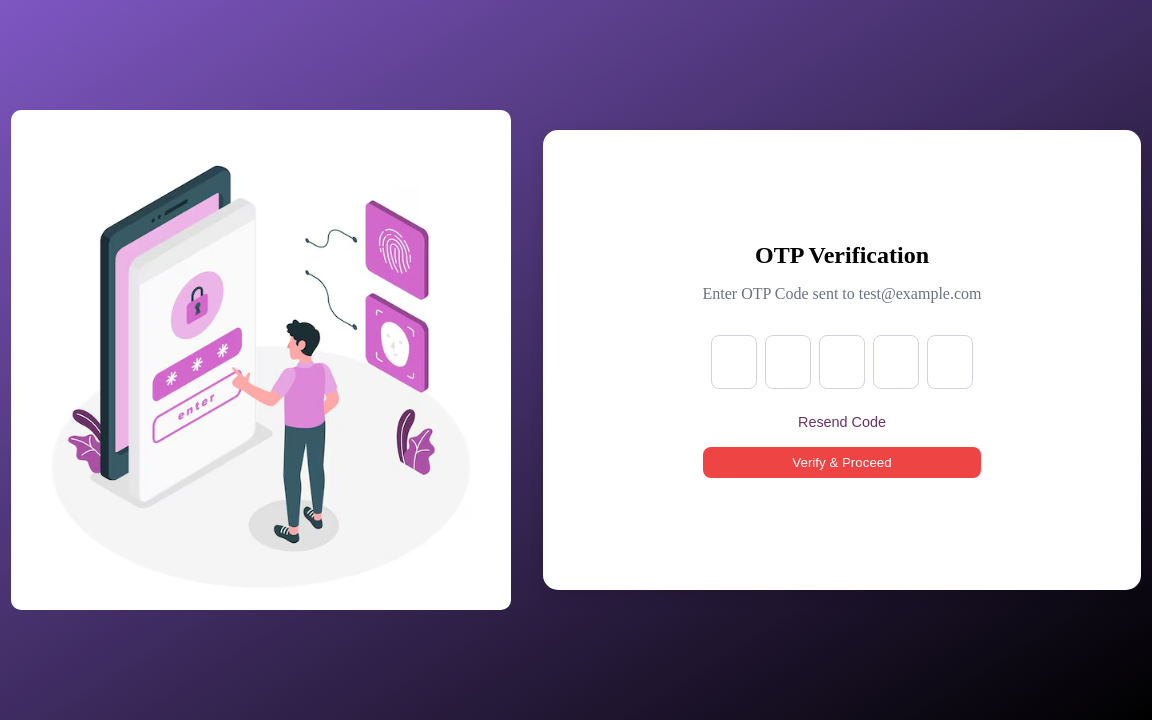
OTPVerification Component › displays error message on failed verification
# Fill in OTP inputs with digits "1", "2", "3", "4", "5"
In the 1st field: (734, 362) 711,335 -> 757,389, type "1"
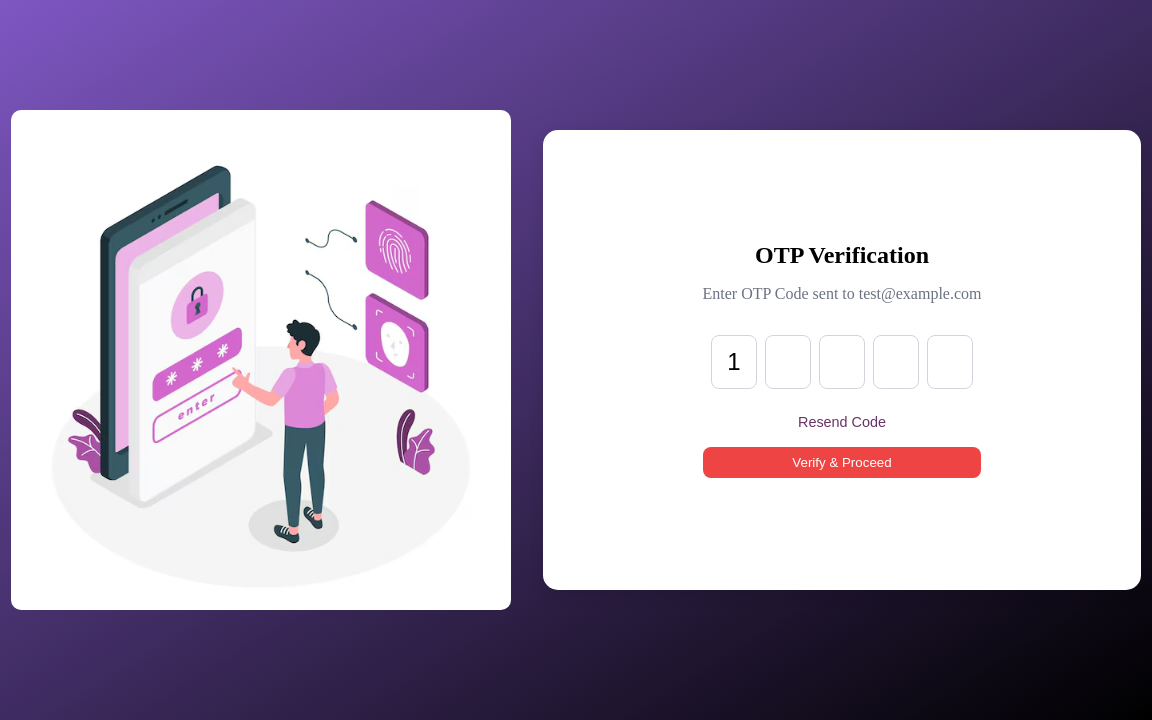
In the 2nd field: (788, 362) 765,335 -> 811,389, type "2"
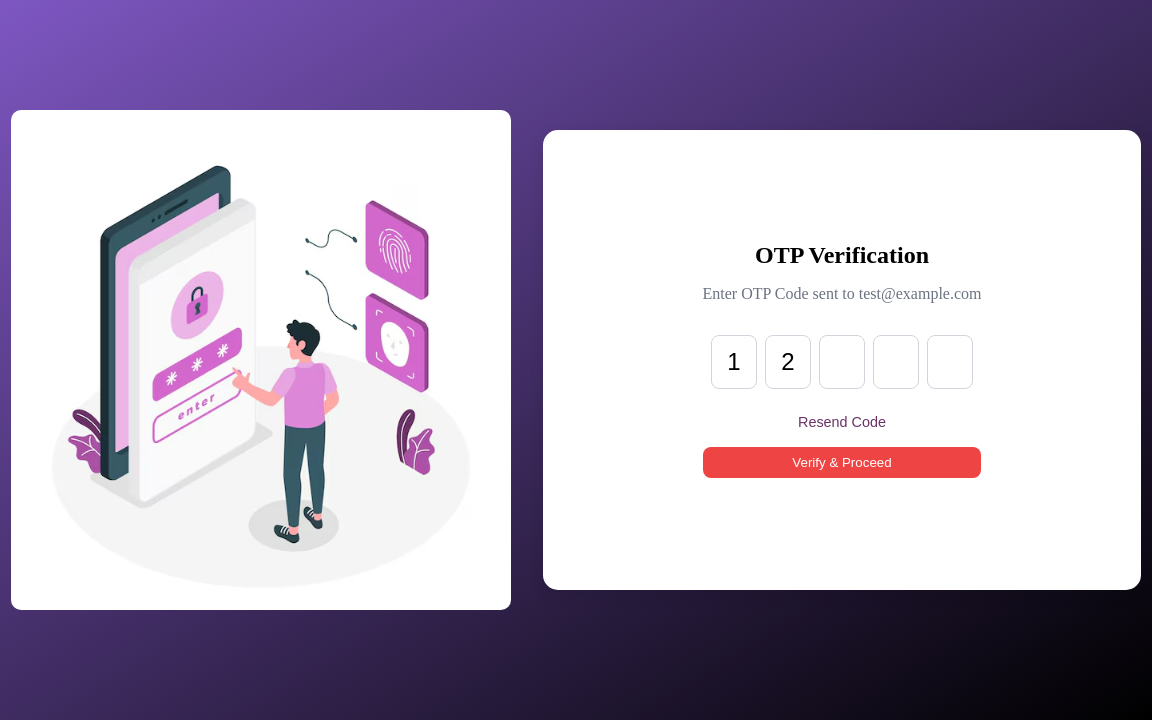
In the 3rd field: (842, 362) 819,335 -> 865,389, type "3"
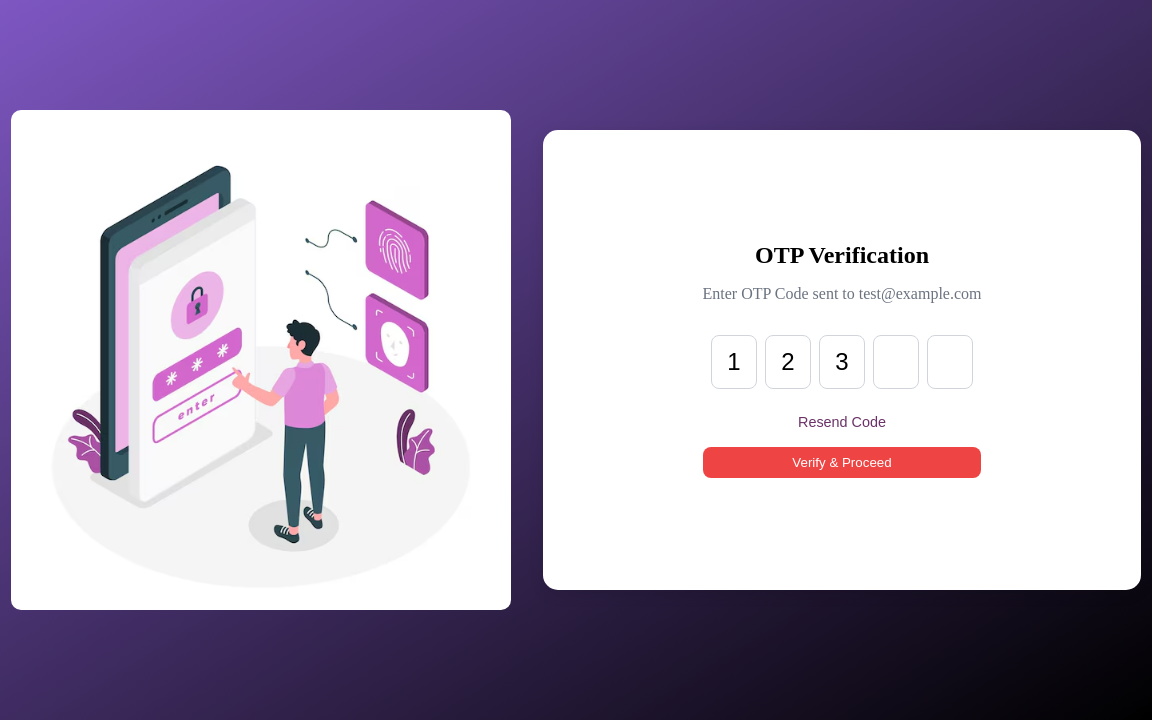
In the 4th field: (896, 362) 873,335 -> 919,389, type "4"
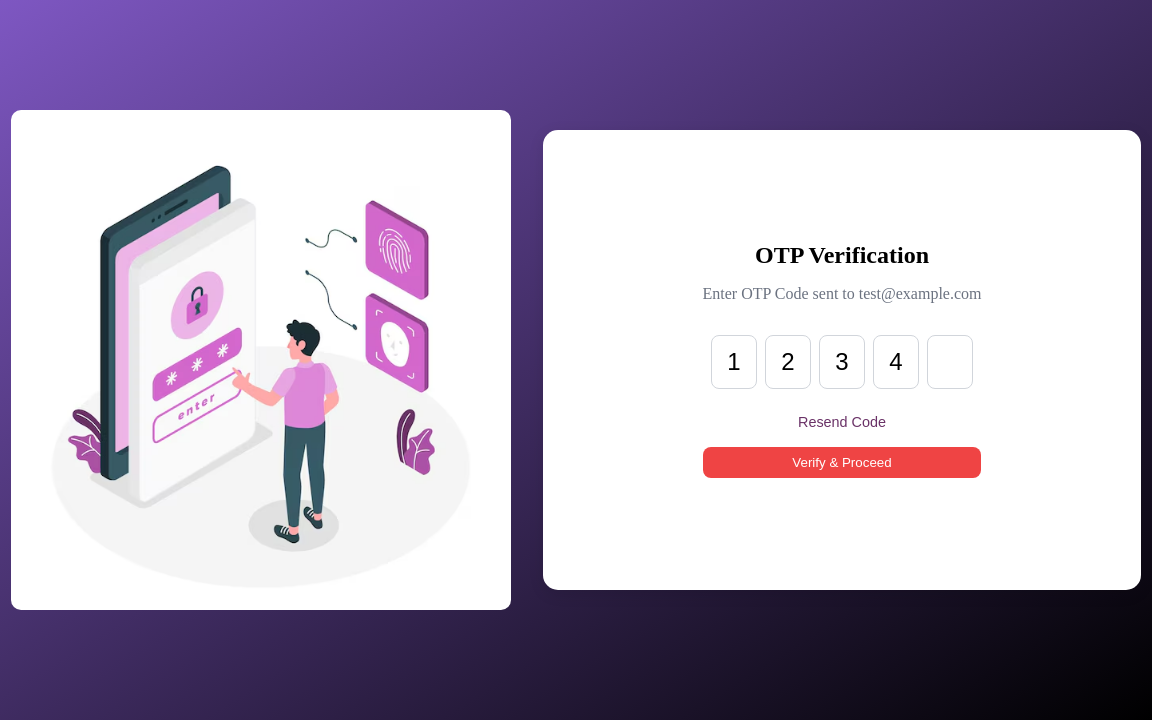
In the 5th field: (950, 362) 927,335 -> 973,389, type "5"
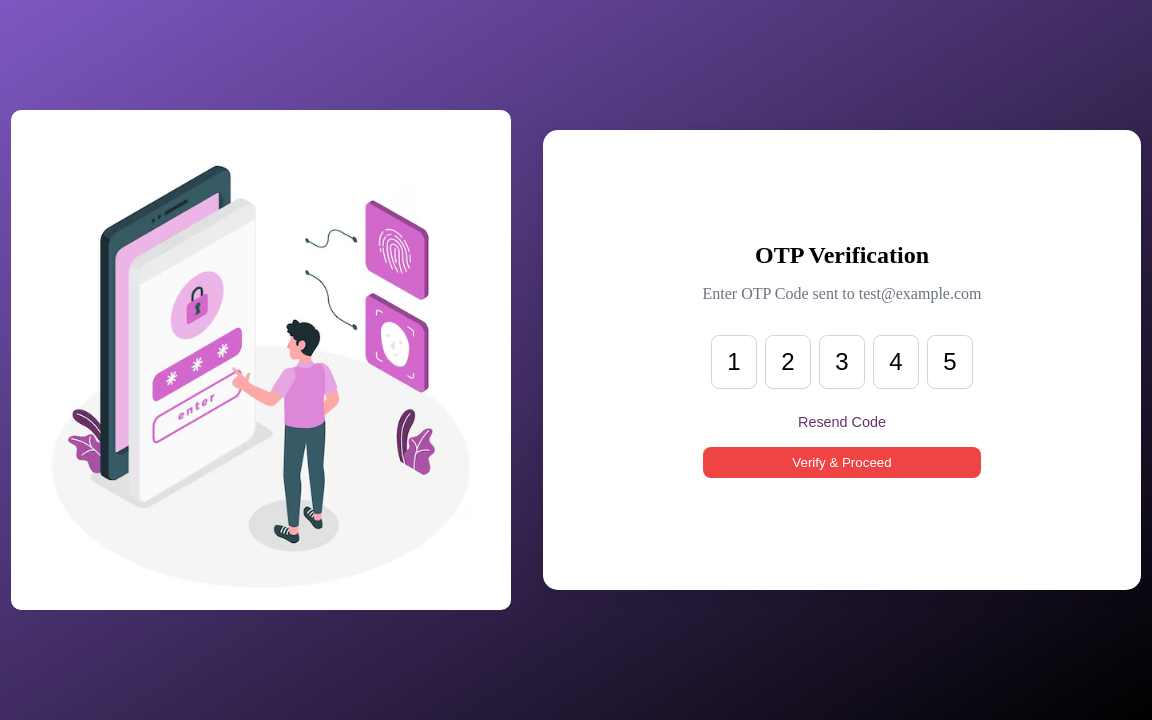
Click the button "Verify & Proceed": click(842, 462) 702,447 -> 982,478
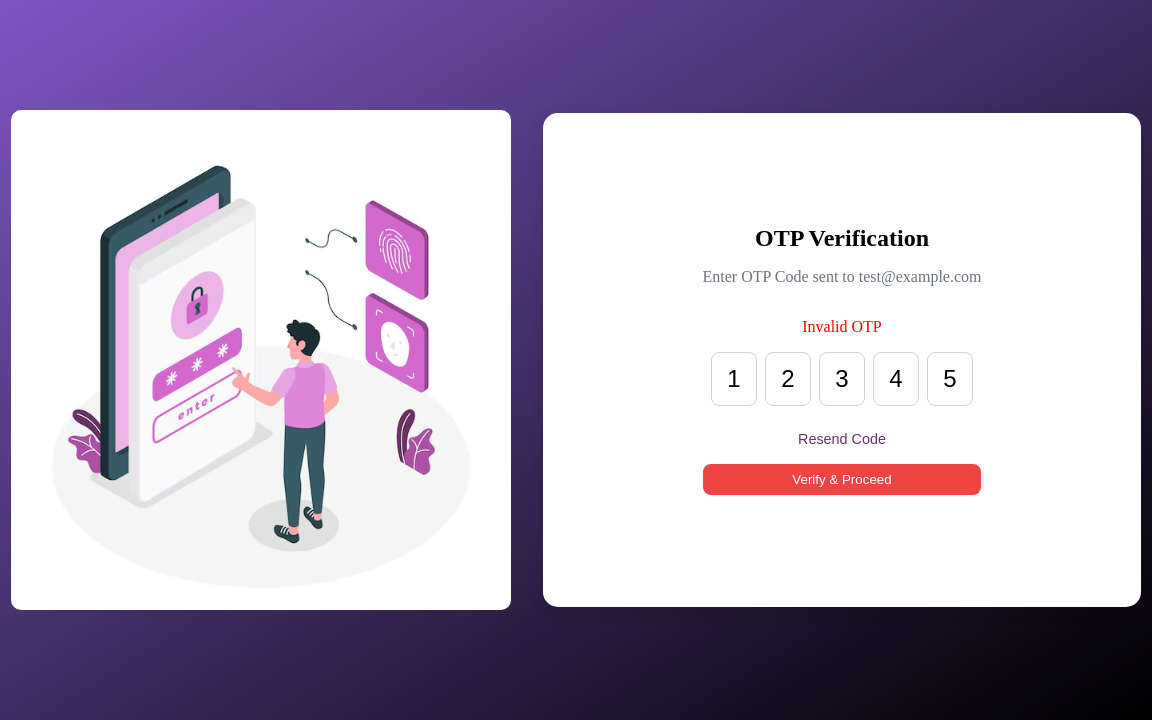
Expected: the text "Invalid OTP" is shown, 802,318 -> 882,335
